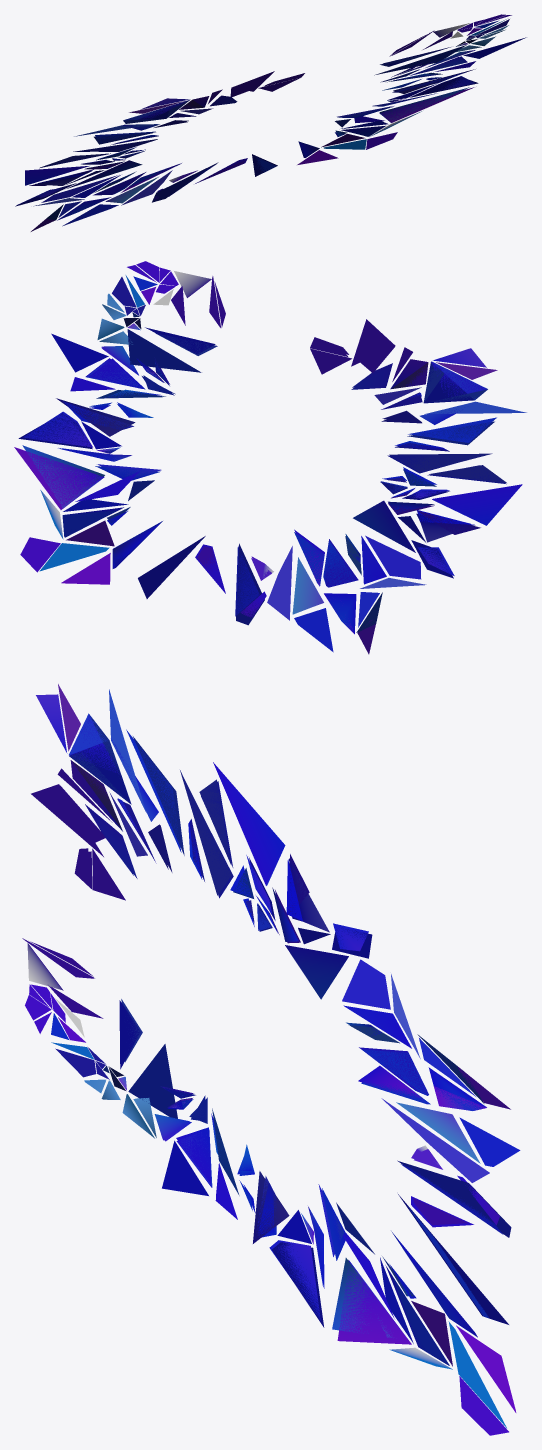
Rendered from pref_fx_Vulpix_spellU_screen_003802_lv2.fbx.
3 renders of one model, top to bottom at view 1: azimuth 30°, elevation 25°; view 2: azimuth 150°, elevation 25°; view 3: azimuth 270°, elevation 25°, orthographic. The views are drawn at different scales.
Parts seen in each view (by area): view 1: sm_crystal_02; view 2: sm_crystal_02; view 3: sm_crystal_02.
Boxes of the visible parts, box(x1,y1,x2,y2) form: sm_crystal_02: box(15, 14, 526, 231); sm_crystal_02: box(14, 261, 526, 654); sm_crystal_02: box(22, 684, 520, 1435).
Size of the model in its own units: 32.16 by 14.34 by 14.34.
